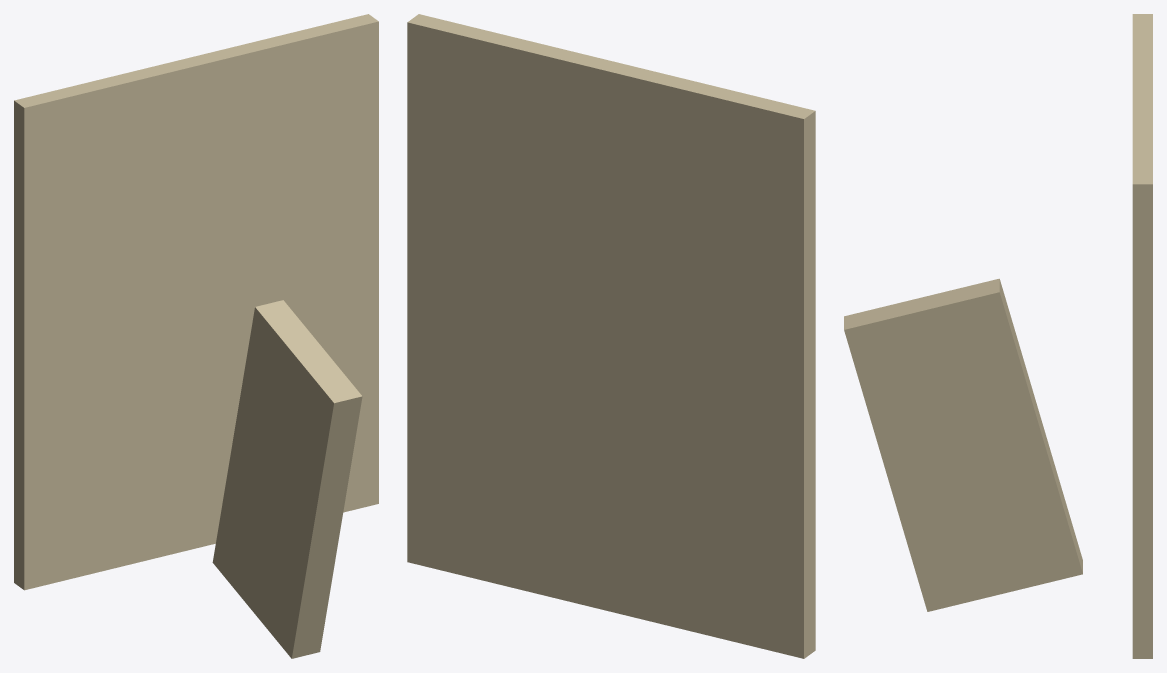
File: photograph_frame.glb
3 renders of one model, left to right at view 1: azimuth 30°, elevation 25°; view 2: azimuth 150°, elevation 25°; view 3: azimuth 270°, elevation 25°, orthographic. The views are drawn at different scales.
Parts seen in each view (by area): view 1: PhotographFrame; view 2: PhotographFrame; view 3: PhotographFrame.
Boxes of the visible parts, x1,y1,x2,y2 form: PhotographFrame: (14,14,378,658); PhotographFrame: (407,14,815,658); PhotographFrame: (844,14,1152,658).
Bounding box in the file's own units: 0.1 × 0.1386 × 0.0767.
